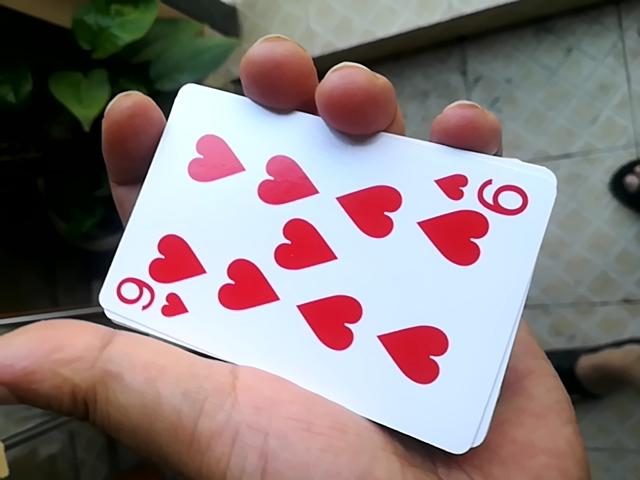hx 9: (89, 81, 559, 449)
